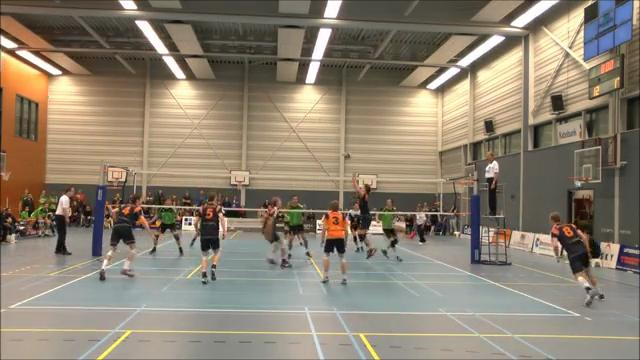Player: (550, 212, 603, 305), (99, 195, 153, 280), (195, 195, 226, 283), (321, 201, 347, 284), (262, 197, 290, 268), (149, 198, 183, 255), (285, 195, 311, 258), (377, 199, 401, 261), (348, 203, 363, 251), (281, 212, 291, 257), (197, 190, 218, 206)
Set: (349, 173, 377, 264)
ball: (342, 151, 351, 159)
